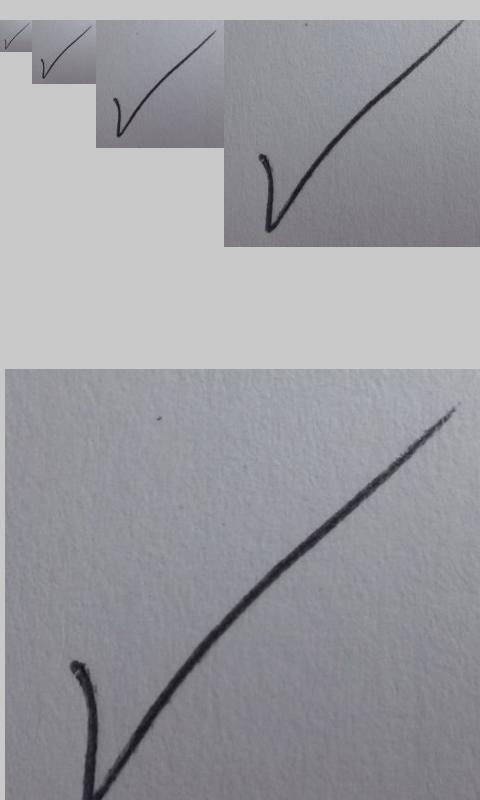check_box: (67, 408, 455, 800), (260, 22, 461, 233), (112, 32, 214, 138), (40, 26, 92, 79), (4, 23, 30, 49)
